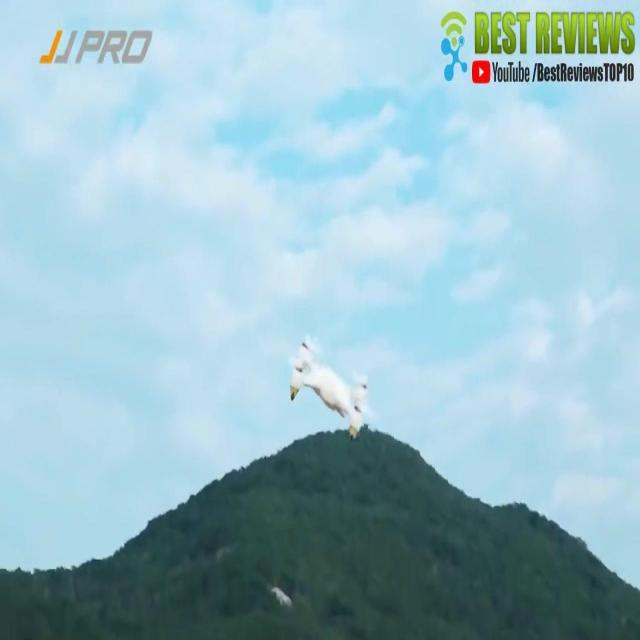drone: (284, 337, 370, 444)
